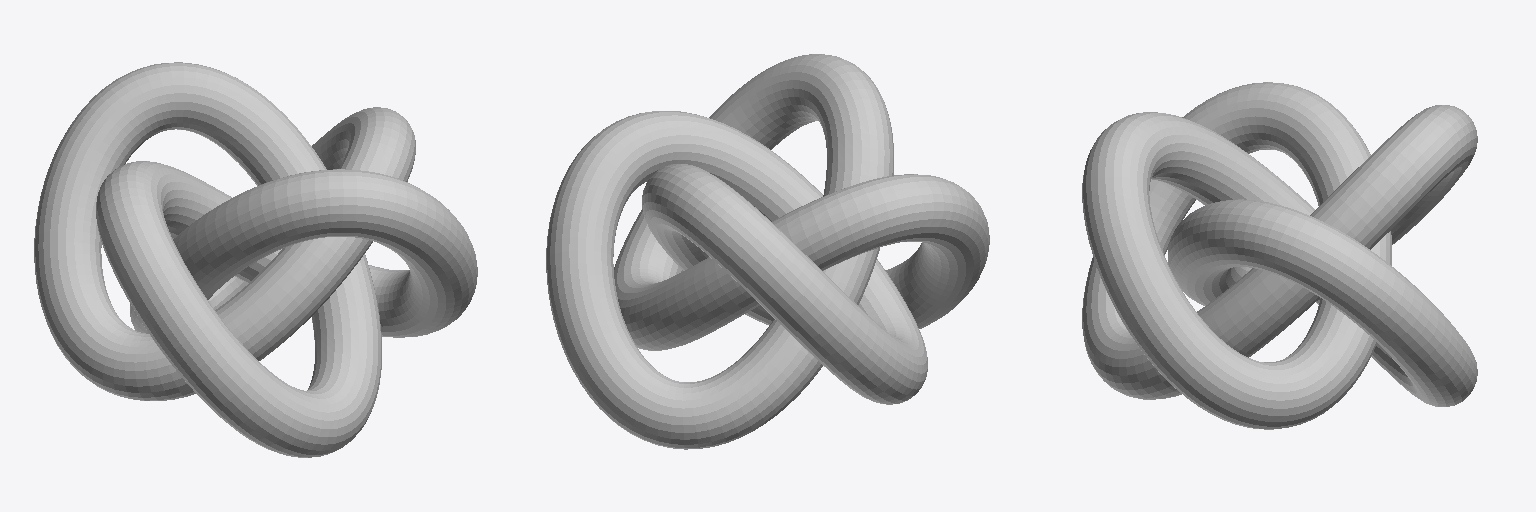
The model's file is torusknot3.obj.
The picture shows the model from 3 angles: view 1: azimuth 30°, elevation 25°; view 2: azimuth 150°, elevation 25°; view 3: azimuth 270°, elevation 25°; orthographic projection.
Parts seen in each view (by area): view 1: TorusKnot.002; view 2: TorusKnot.002; view 3: TorusKnot.002.
Boxes of the visible parts, x1,y1,x2,y2 form: TorusKnot.002: [34, 62, 477, 457]; TorusKnot.002: [546, 54, 989, 449]; TorusKnot.002: [1082, 82, 1477, 429].
Size of the model in its own units: 5.86 by 4.48 by 5.86.